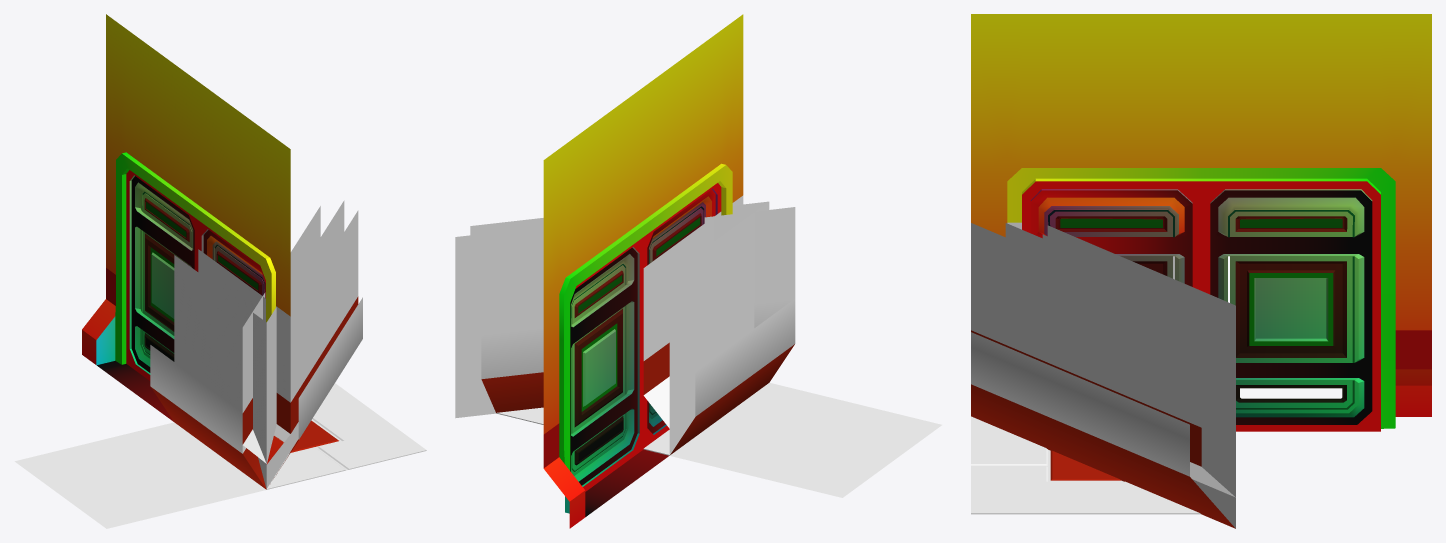
Rendered from S_Assete.fbx.
3 views of the same model, side by side, from view 1: azimuth 30°, elevation 25°; view 2: azimuth 150°, elevation 25°; view 3: azimuth 270°, elevation 25° (orthographic). The views are drawn at different scales.
Visible parts, largest first — view 1: S_basement_wall_double_gate_1, S_basement_ceiling_1, S_basement_wall_midel_1, S_basement_floor_1, S_basement_wall_hard_outside_corner_1, S_basement_wall_top_1, S_basement_wall_hard_inside_corner_1, S_basement_wall_1, S_basement_wall_hard_inside_corner_midel_1, S_basement_wall_hard_inside_corner_top_1; view 2: S_basement_wall_double_gate_1, S_basement_ceiling_1, S_basement_wall_midel_1, S_basement_wall_hard_inside_corner_1, S_basement_wall_top_1, S_basement_wall_hard_outside_corner_top_1, S_basement_wall_1, S_basement_wall_hard_inside_corner_midel_1, S_basement_wall_hard_outside_corner_1, S_basement_floor_1, S_basement_wall_hard_outside_corner_midel_1; view 3: S_basement_wall_double_gate_1, S_basement_wall_hard_outside_corner_1, S_basement_wall_hard_inside_corner_top_1, S_basement_floor_1, S_basement_wall_hard_inside_corner_midel_1, S_basement_wall_hard_inside_corner_1.
Part boxes in pixels (left/top/right/bottom): S_basement_wall_double_gate_1: left=82, top=14, right=290, bottom=463; S_basement_ceiling_1: left=14, top=422, right=266, bottom=528; S_basement_wall_midel_1: left=174, top=255, right=266, bottom=488; S_basement_floor_1: left=266, top=383, right=426, bottom=489; S_basement_wall_hard_outside_corner_1: left=290, top=210, right=358, bottom=433; S_basement_wall_top_1: left=150, top=345, right=265, bottom=488; S_basement_wall_hard_inside_corner_1: left=242, top=206, right=320, bottom=488; S_basement_wall_1: left=198, top=249, right=290, bottom=442; S_basement_wall_hard_inside_corner_midel_1: left=266, top=200, right=344, bottom=467; S_basement_wall_hard_inside_corner_top_1: left=274, top=297, right=362, bottom=477; S_basement_wall_double_gate_1: left=543, top=14, right=743, bottom=528; S_basement_ceiling_1: left=670, top=382, right=941, bottom=497; S_basement_wall_midel_1: left=669, top=202, right=769, bottom=454; S_basement_wall_hard_inside_corner_1: left=481, top=207, right=795, bottom=333; S_basement_wall_top_1: left=670, top=299, right=795, bottom=454; S_basement_wall_hard_outside_corner_top_1: left=481, top=298, right=794, bottom=412; S_basement_wall_1: left=643, top=195, right=743, bottom=428; S_basement_wall_hard_inside_corner_midel_1: left=455, top=232, right=496, bottom=390; S_basement_wall_hard_outside_corner_1: left=455, top=218, right=543, bottom=418; S_basement_floor_1: left=496, top=407, right=669, bottom=455; S_basement_wall_hard_outside_corner_midel_1: left=496, top=201, right=768, bottom=241; S_basement_wall_double_gate_1: left=971, top=14, right=1431, bottom=431; S_basement_wall_hard_outside_corner_1: left=971, top=223, right=1235, bottom=497; S_basement_wall_hard_inside_corner_top_1: left=971, top=332, right=1235, bottom=528; S_basement_floor_1: left=971, top=416, right=1200, bottom=514; S_basement_wall_hard_inside_corner_midel_1: left=1005, top=223, right=1235, bottom=528; S_basement_wall_hard_inside_corner_1: left=1042, top=225, right=1235, bottom=488.
Size of the model in its own units: 430 by 400 by 400.
